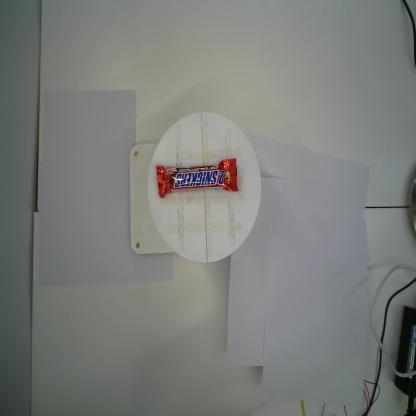Chocolate: (155, 157, 239, 200)
